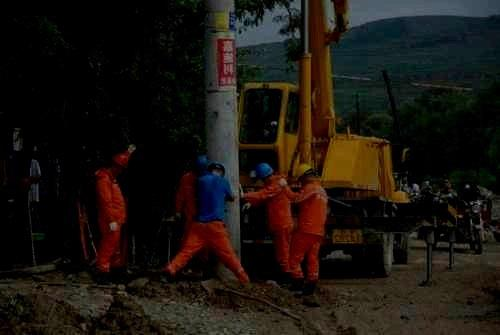helmet: (110, 152, 129, 175), (295, 164, 314, 185), (254, 163, 273, 184), (192, 155, 208, 177), (207, 161, 226, 179)
